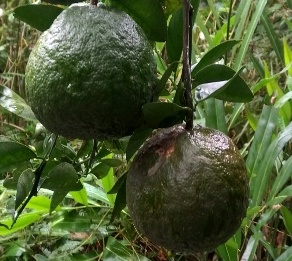Cam: (24, 2, 162, 143), (123, 125, 251, 251)
